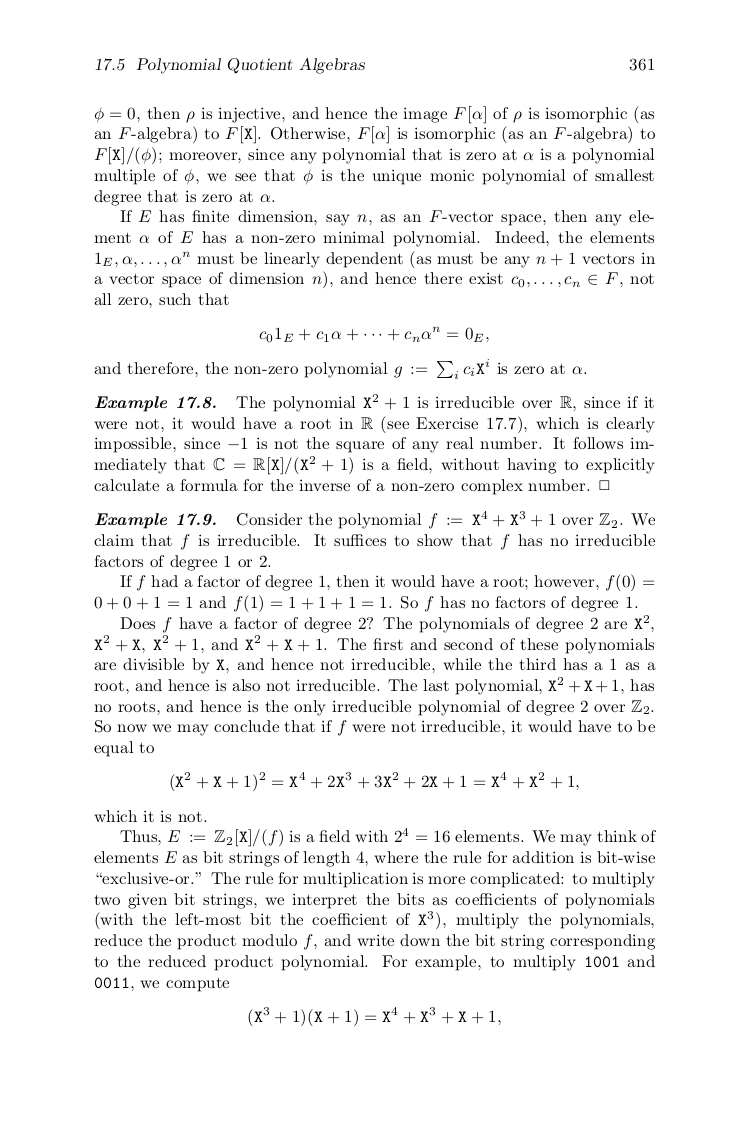formula: (170, 771, 578, 792), (248, 1005, 500, 1027), (259, 325, 488, 343)
